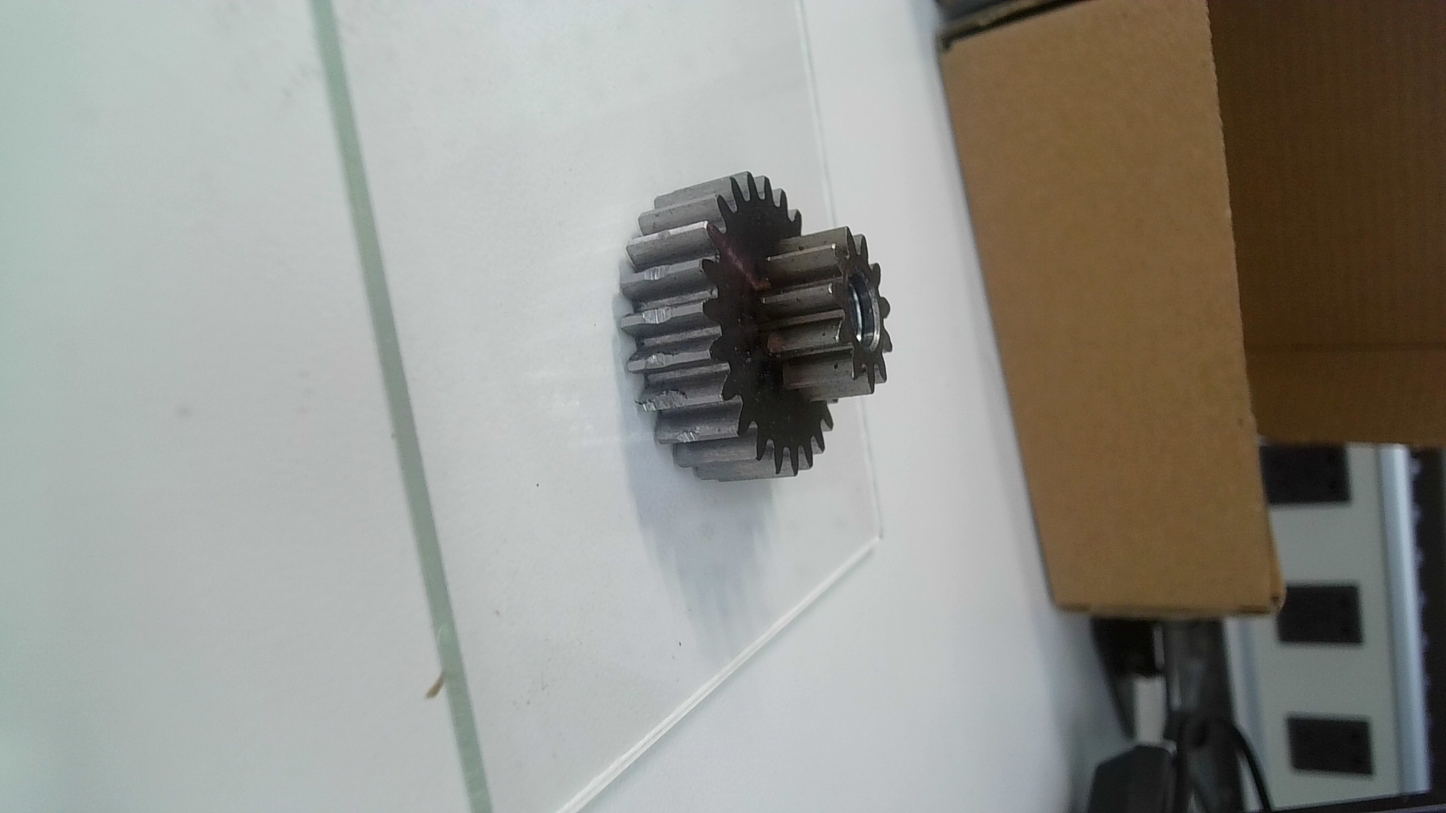gear: (619, 167, 892, 484)
